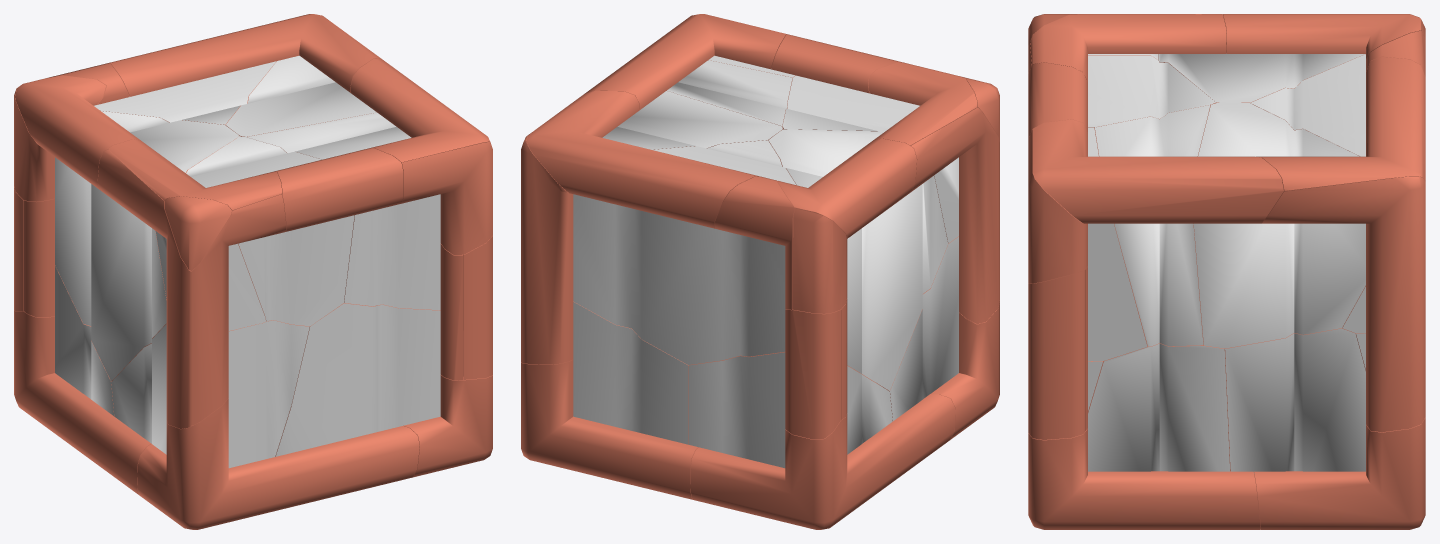
File: wooden_box_parts.fbx
The picture shows the model from 3 angles, left to right: view 1: azimuth 30°, elevation 25°; view 2: azimuth 150°, elevation 25°; view 3: azimuth 270°, elevation 25°; orthographic projection. The views are drawn at different scales.
Visible parts, largest first — view 1: wooden_box_parts.001, wooden_box_parts.029, wooden_box_parts.009, wooden_box_parts.014, wooden_box_parts.010, wooden_box_parts.032, wooden_box_parts.036, wooden_box_parts.011, wooden_box_parts.021, wooden_box_parts.008, wooden_box_parts.015, wooden_box_parts.024 (+17 smaller); view 2: wooden_box_parts.004, wooden_box_parts.001, wooden_box_parts.036, wooden_box_parts.032, wooden_box_parts.012, wooden_box_parts.026, wooden_box_parts.006, wooden_box_parts.019, wooden_box_parts.015, wooden_box_parts.017, wooden_box_parts.024, wooden_box_parts.018 (+12 smaller); view 3: wooden_box_parts.002, wooden_box_parts.013, wooden_box_parts.019, wooden_box_parts.017, wooden_box_parts.005, wooden_box_parts.022, wooden_box_parts, wooden_box_parts.026, wooden_box_parts.032, wooden_box_parts.016, wooden_box_parts.028, wooden_box_parts.024 (+8 smaller).
Boxes of the visible parts, x1,y1,x2,y2 form: wooden_box_parts.001: [55, 111, 239, 381]; wooden_box_parts.029: [137, 398, 419, 529]; wooden_box_parts.009: [111, 320, 309, 468]; wooden_box_parts.014: [186, 136, 354, 326]; wooden_box_parts.010: [275, 303, 377, 456]; wooden_box_parts.032: [109, 14, 379, 96]; wooden_box_parts.036: [14, 310, 151, 494]; wooden_box_parts.011: [344, 194, 440, 310]; wooden_box_parts.021: [192, 194, 286, 425]; wooden_box_parts.008: [377, 304, 440, 431]; wooden_box_parts.015: [97, 149, 191, 428]; wooden_box_parts.024: [15, 75, 140, 190]; wooden_box_parts.004: [573, 140, 796, 364]; wooden_box_parts.001: [768, 129, 948, 390]; wooden_box_parts.036: [690, 394, 955, 529]; wooden_box_parts.032: [526, 90, 759, 228]; wooden_box_parts.012: [688, 352, 892, 468]; wooden_box_parts.026: [521, 360, 698, 499]; wooden_box_parts.006: [573, 301, 688, 444]; wooden_box_parts.019: [521, 132, 573, 364]; wooden_box_parts.015: [910, 107, 999, 324]; wooden_box_parts.017: [584, 14, 787, 109]; wooden_box_parts.024: [777, 138, 916, 237]; wooden_box_parts.018: [785, 309, 840, 439]; wooden_box_parts.002: [1193, 103, 1365, 348]; wooden_box_parts.013: [1224, 328, 1365, 473]; wooden_box_parts.019: [1261, 176, 1425, 432]; wooden_box_parts.017: [1033, 119, 1283, 223]; wooden_box_parts.005: [1088, 343, 1229, 471]; wooden_box_parts.022: [1028, 429, 1260, 529]; wooden_box_parts: [1095, 105, 1210, 346]; wooden_box_parts.026: [1254, 417, 1425, 529]; wooden_box_parts.032: [1256, 57, 1425, 191]; wooden_box_parts.016: [1028, 270, 1084, 439]; wooden_box_parts.028: [1030, 14, 1226, 81]; wooden_box_parts.024: [1222, 14, 1421, 58].
Size of the model in its own units: 2 by 2 by 2.
